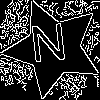N: (28, 23, 70, 72)
